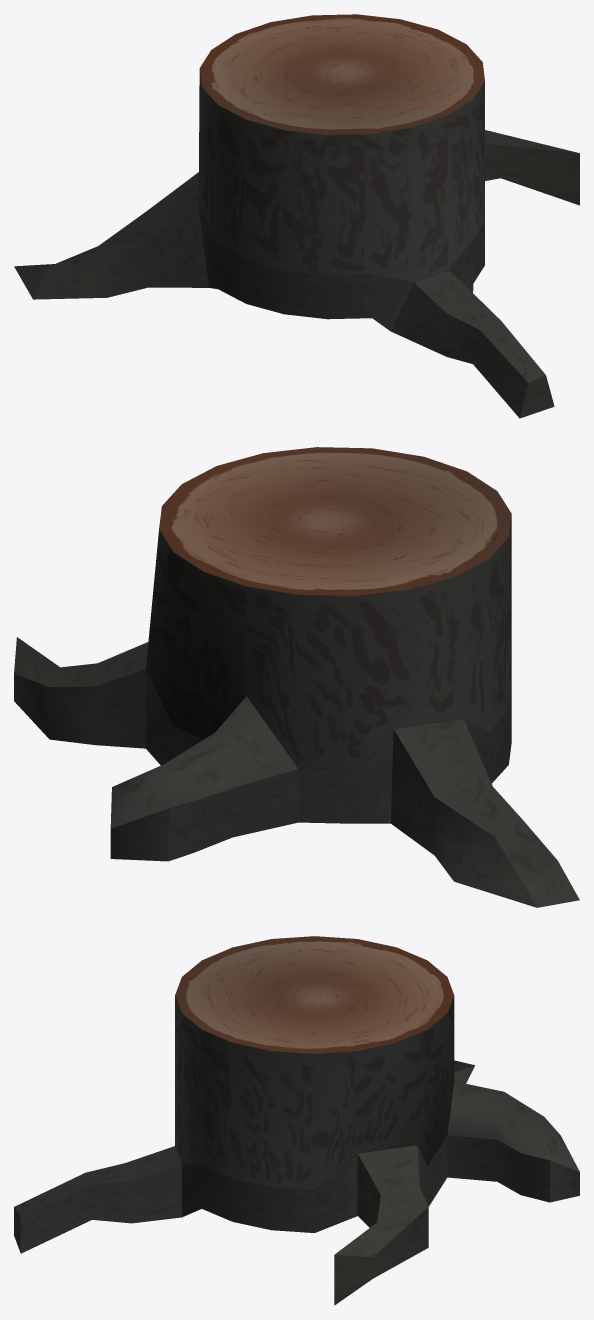
File: TreeStump.fbx
3 renders of one model, top to bottom at view 1: azimuth 30°, elevation 25°; view 2: azimuth 150°, elevation 25°; view 3: azimuth 270°, elevation 25°, orthographic. The views are drawn at different scales.
Parts seen in each view (by area): view 1: TreeStump; view 2: TreeStump; view 3: TreeStump.
Boxes of the visible parts, x1,y1,x2,y2 form: TreeStump: (14,14,579,418); TreeStump: (14,447,579,907); TreeStump: (14,936,579,1305).
Size of the model in its own units: 12.1 by 5.45 by 12.17.
1 material, 1 textured.
